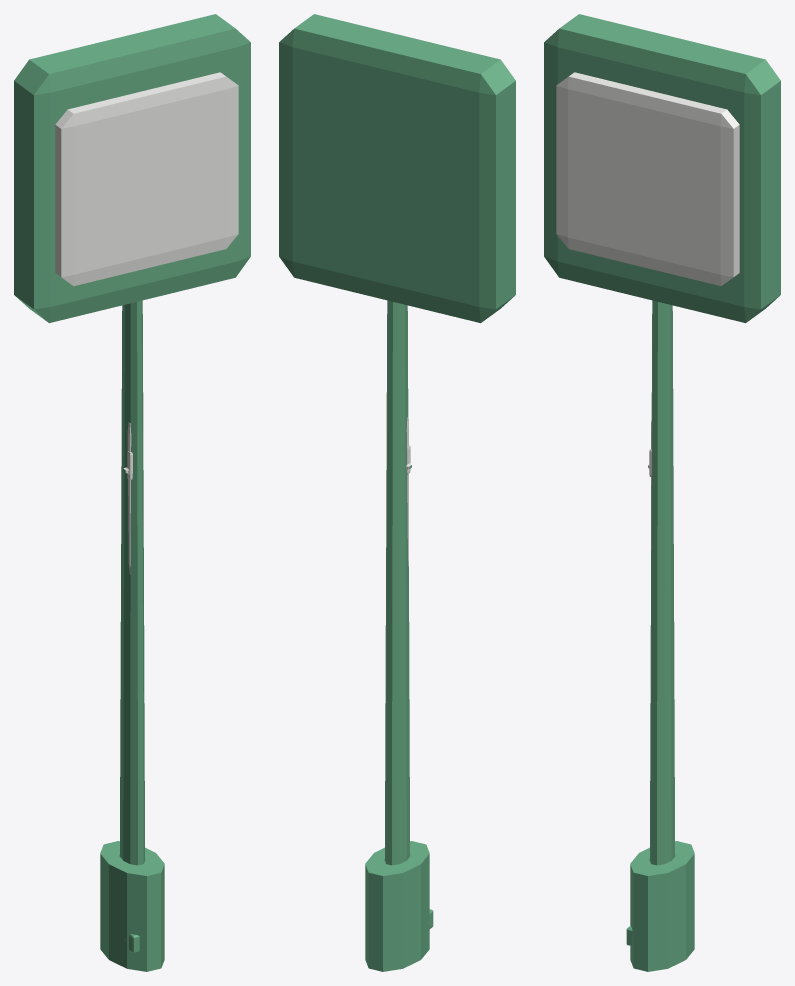
Rendered from b02_public_parking_sign.glb.
3 renders of one model, left to right at view 1: azimuth 30°, elevation 25°; view 2: azimuth 150°, elevation 25°; view 3: azimuth 330°, elevation 25°, orthographic.
Parts seen in each view (by area): view 1: b02_public_parking_sign; view 2: b02_public_parking_sign; view 3: b02_public_parking_sign.
Boxes of the visible parts, x1,y1,x2,y2 form: b02_public_parking_sign: [14, 14, 250, 971]; b02_public_parking_sign: [279, 14, 515, 971]; b02_public_parking_sign: [544, 14, 780, 971].
Bounding box in the file's own units: 0.62 × 2.48 × 0.214.
